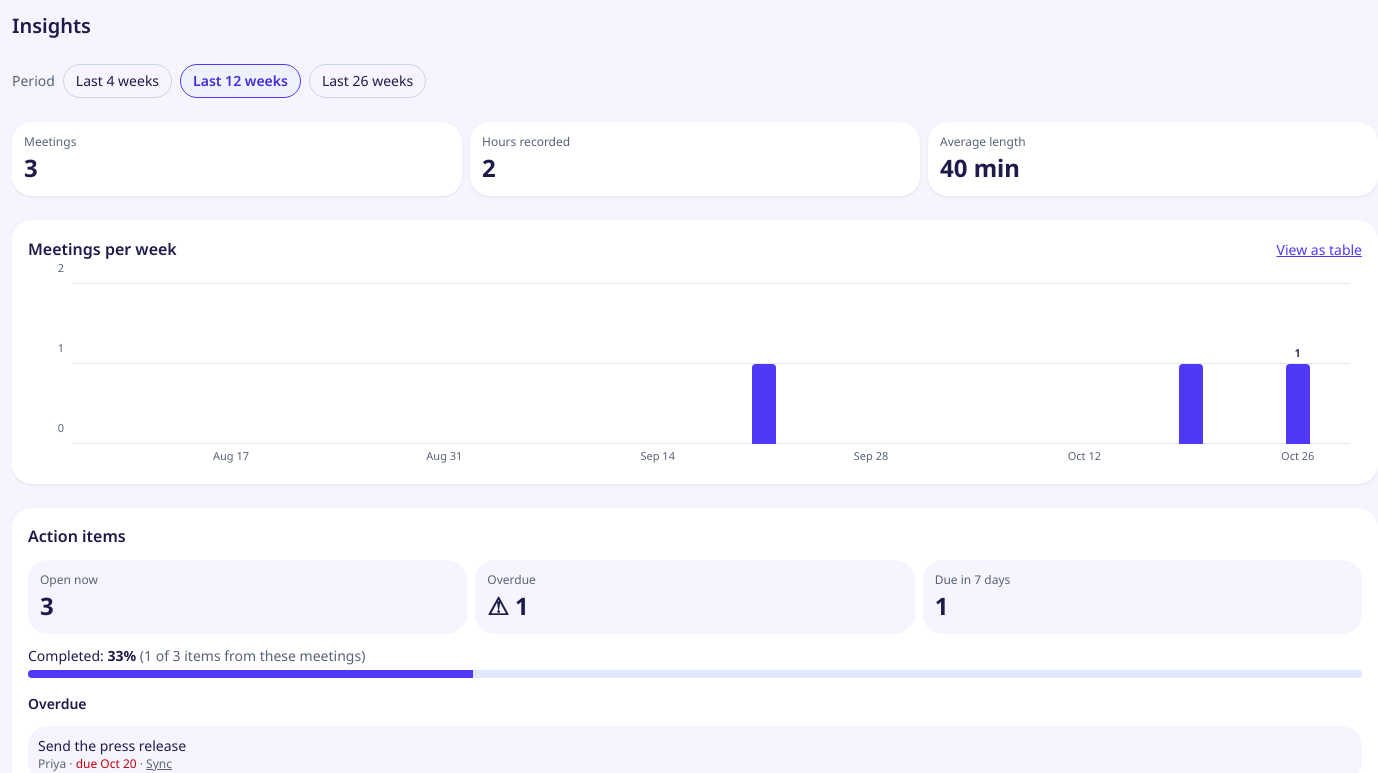
Scenario: Insights page › shows a signed change when the previous period has data
Expected: the text "Meetings" is shown, [24,133,76,150]
Click the button "Last 4 weeks" at coordinates (117, 81), box [63,64,172,98]
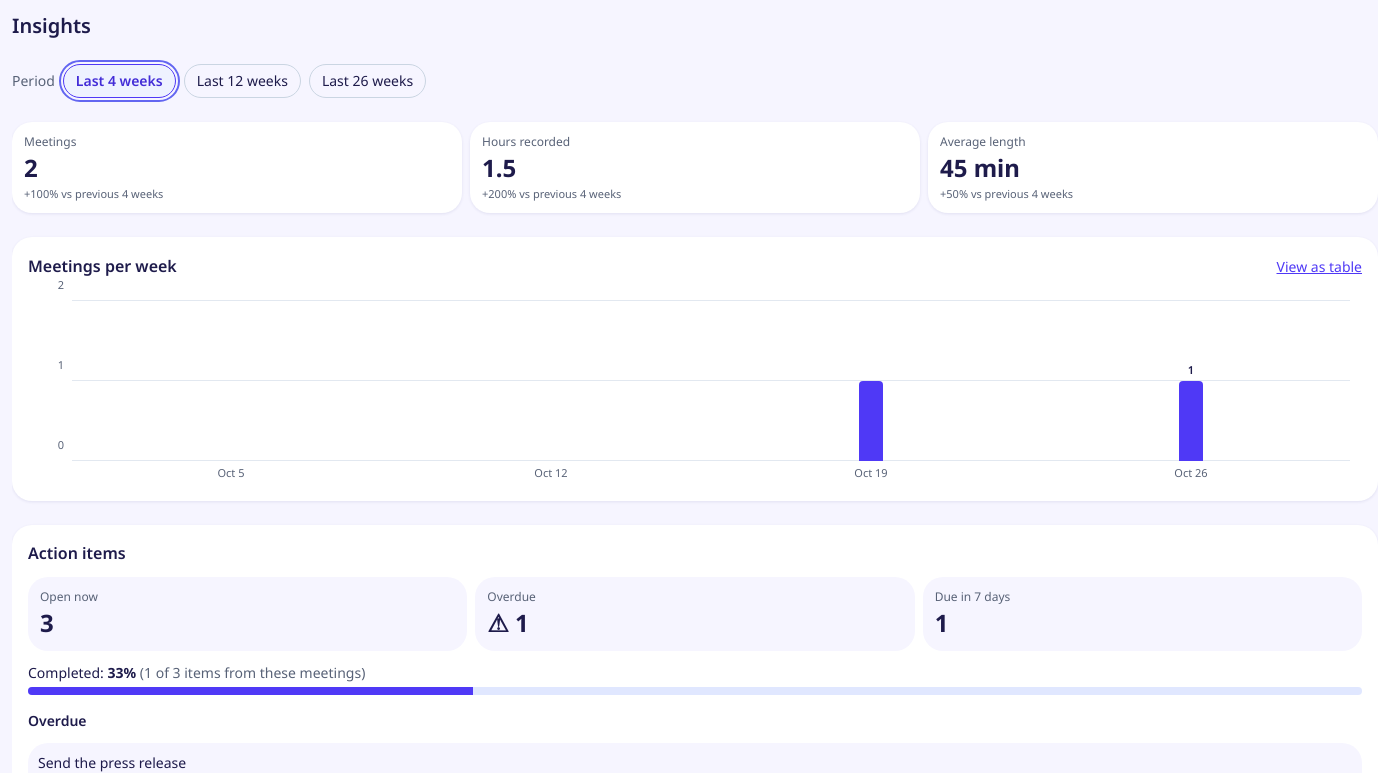
Now the text "+100% vs previous 4 weeks" is shown, box [24,186,163,201]
